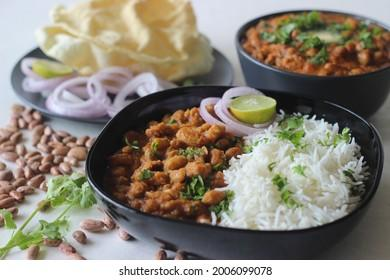rajma: (256, 4, 390, 91), (119, 115, 221, 221)
rice: (252, 136, 374, 230)
